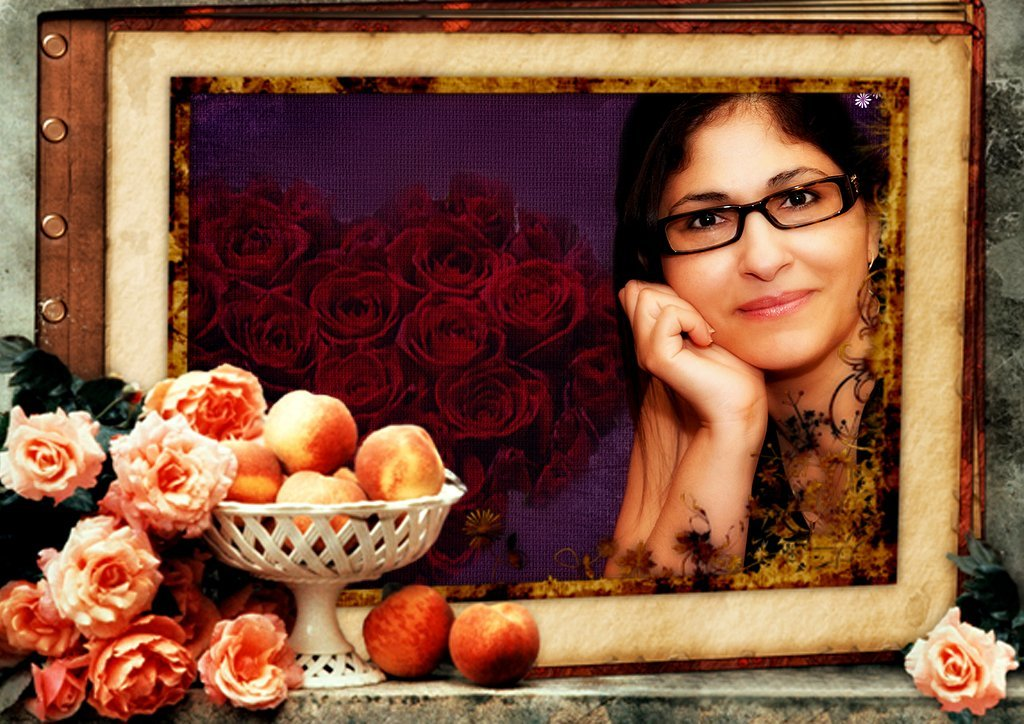Apple: (362, 583, 453, 681), (259, 389, 360, 471), (273, 468, 368, 553), (353, 431, 449, 510), (446, 611, 536, 691), (216, 439, 286, 519), (327, 463, 357, 482)
